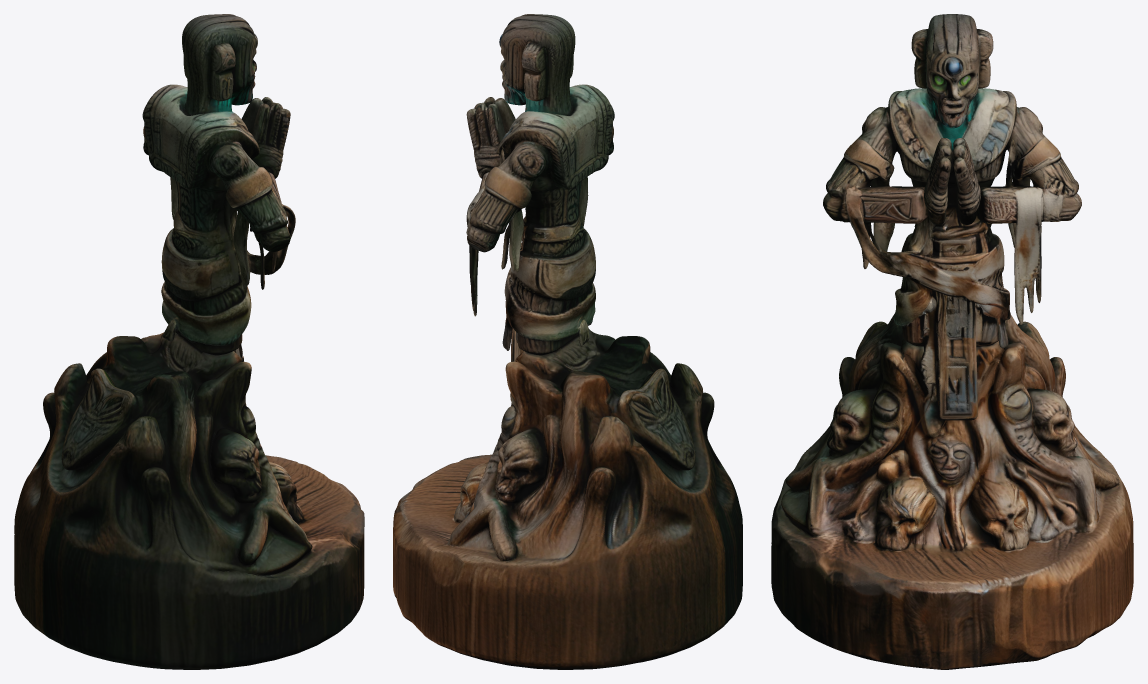
The model's file is fantasy+statue+3d+model.glb.
The picture shows the model from 3 angles, left to right: view 1: azimuth 30°, elevation 25°; view 2: azimuth 150°, elevation 25°; view 3: azimuth 270°, elevation 25°; orthographic projection. The views are drawn at different scales.
Visible parts, largest first — view 1: tripo_node_06492c8a-8f73-49fe-9ab4-9236618ff7c9; view 2: tripo_node_06492c8a-8f73-49fe-9ab4-9236618ff7c9; view 3: tripo_node_06492c8a-8f73-49fe-9ab4-9236618ff7c9.
Part boxes in pixels (left/top/right/bottom): tripo_node_06492c8a-8f73-49fe-9ab4-9236618ff7c9: left=14, top=14, right=364, bottom=669; tripo_node_06492c8a-8f73-49fe-9ab4-9236618ff7c9: left=393, top=14, right=742, bottom=669; tripo_node_06492c8a-8f73-49fe-9ab4-9236618ff7c9: left=771, top=14, right=1133, bottom=669.
Size of the model in its own units: 0.551 by 1 by 0.5517.
1 material, 1 textured.
